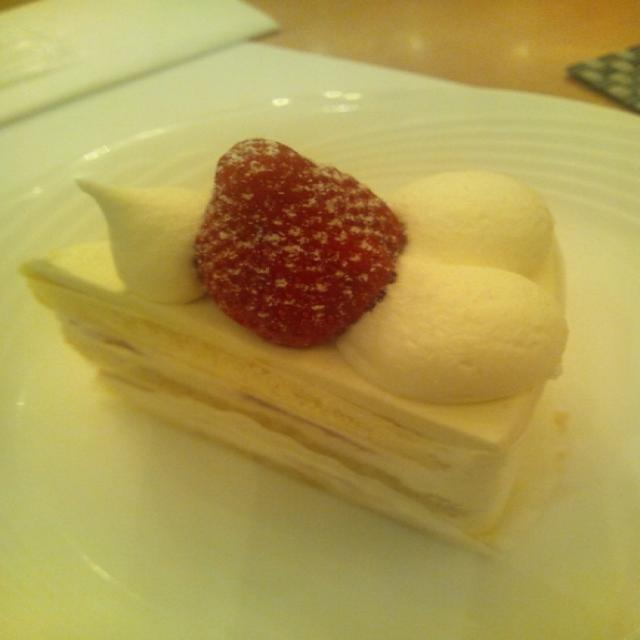蛋糕甜品: (19, 53, 618, 602)
